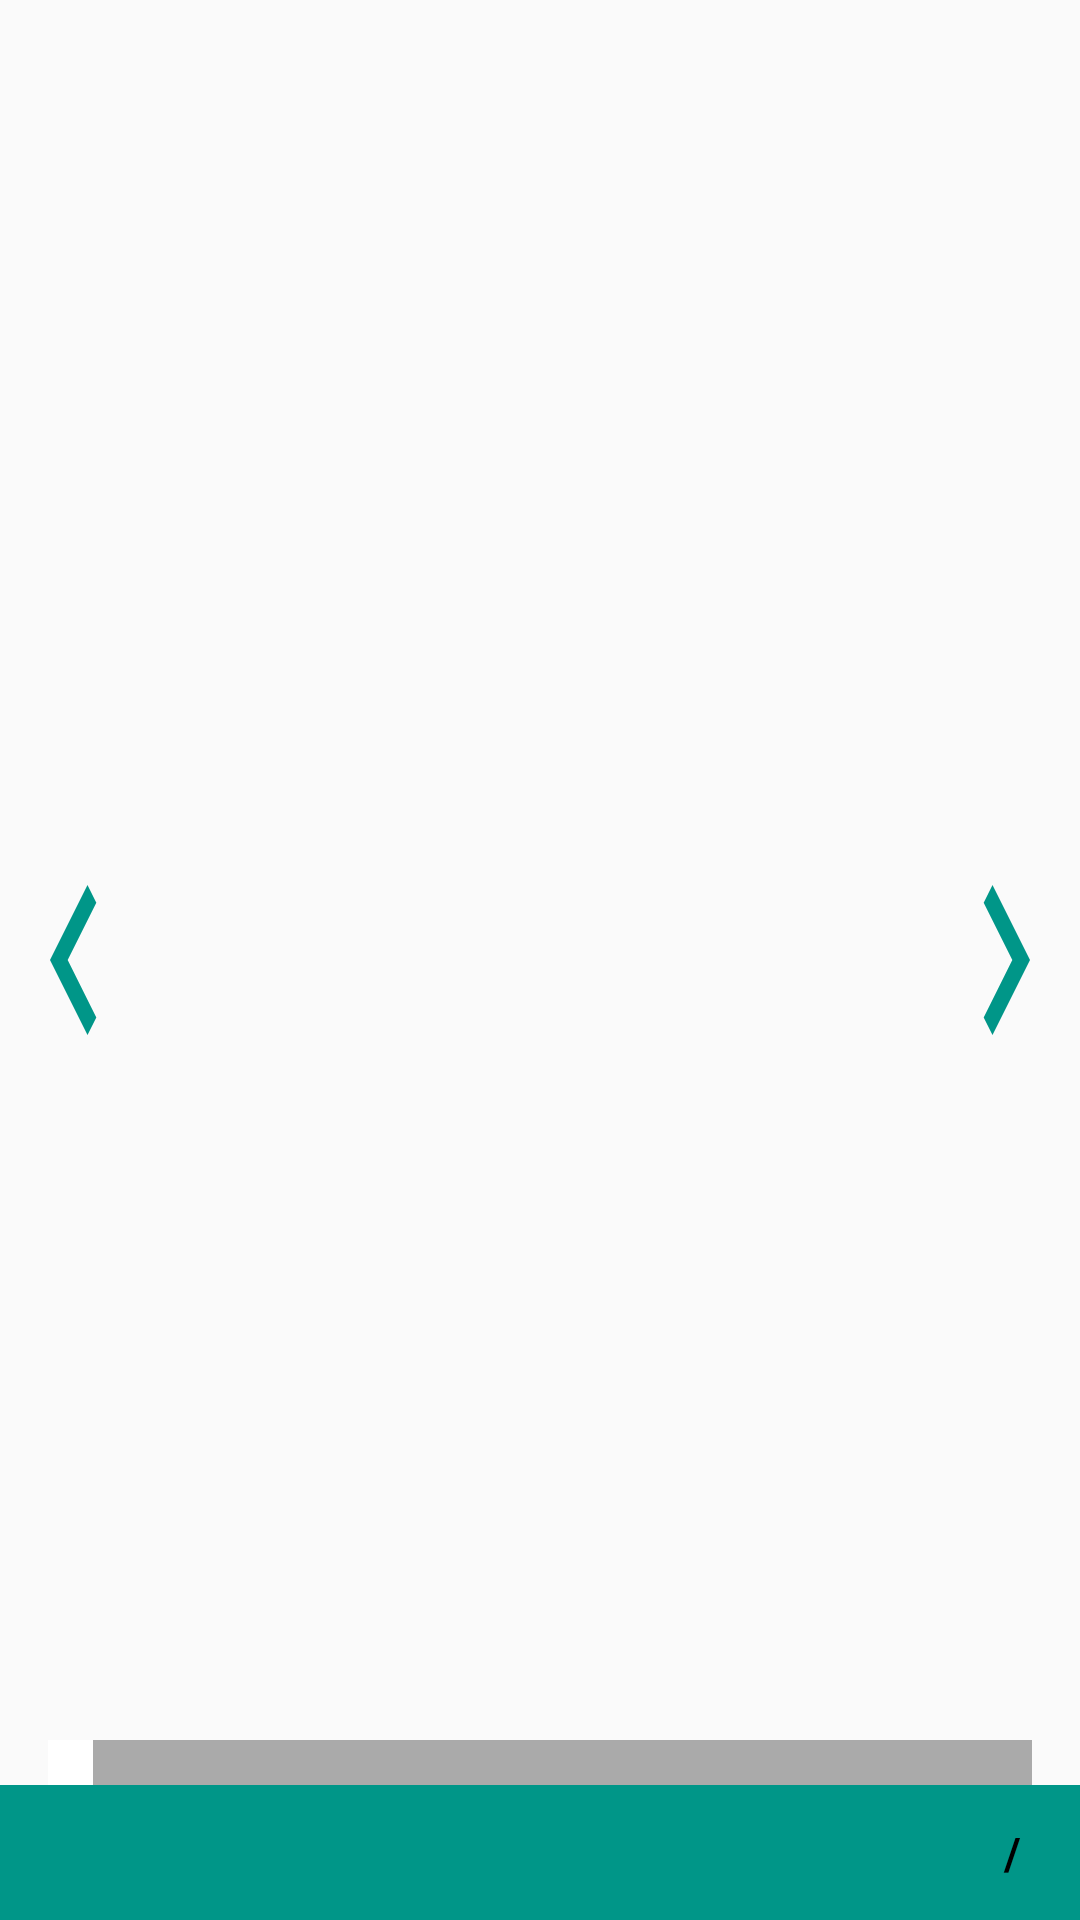

Icons on this 1080*1920 Android screen, each with its box as [left=x1, top=y1, right=x2, bottom=y2]:
navigate before: [left=50, top=885, right=97, bottom=1035]
navigate next: [left=983, top=885, right=1030, bottom=1035]
